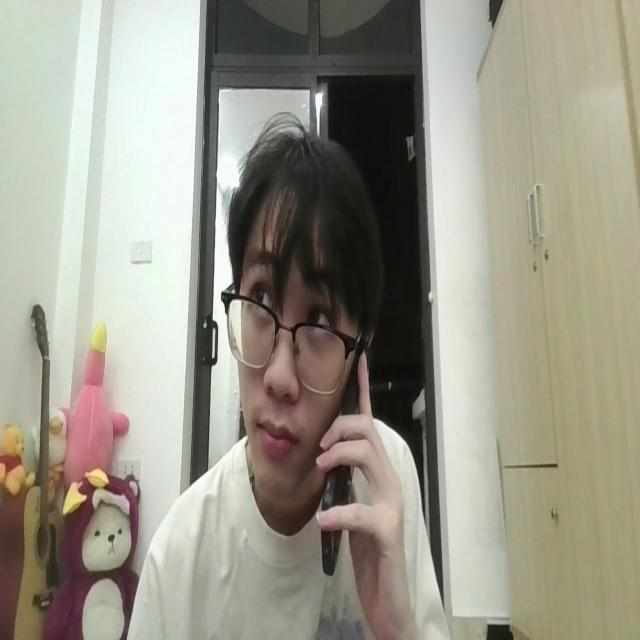phone: (319, 342, 366, 572)
student: (116, 113, 450, 640)
